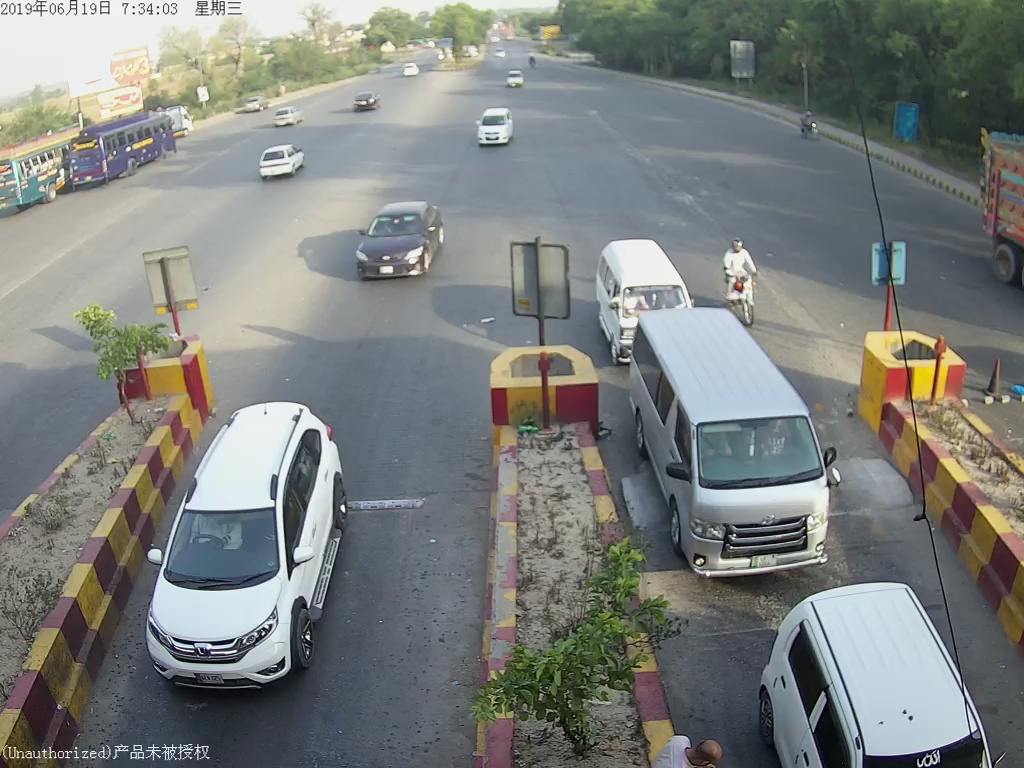Cat-1: (149, 405, 363, 703), (354, 196, 448, 281)
Cat-2: (626, 303, 851, 573)
